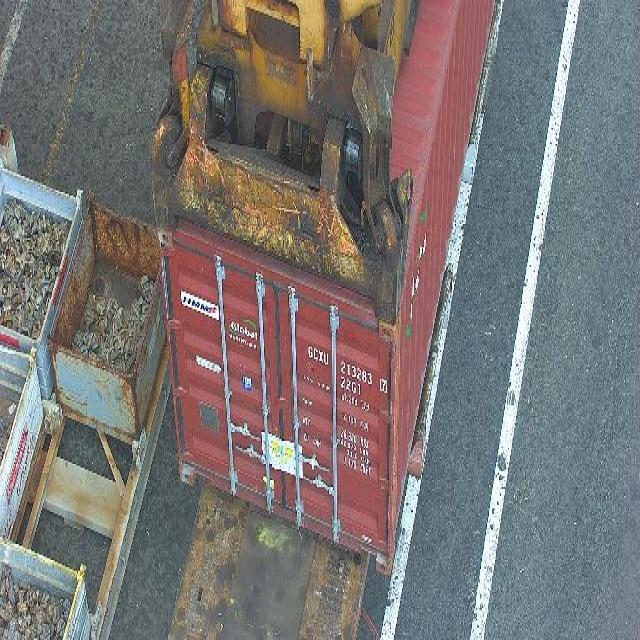ISO: (338, 373, 362, 398)
container_number: (304, 338, 390, 396)
